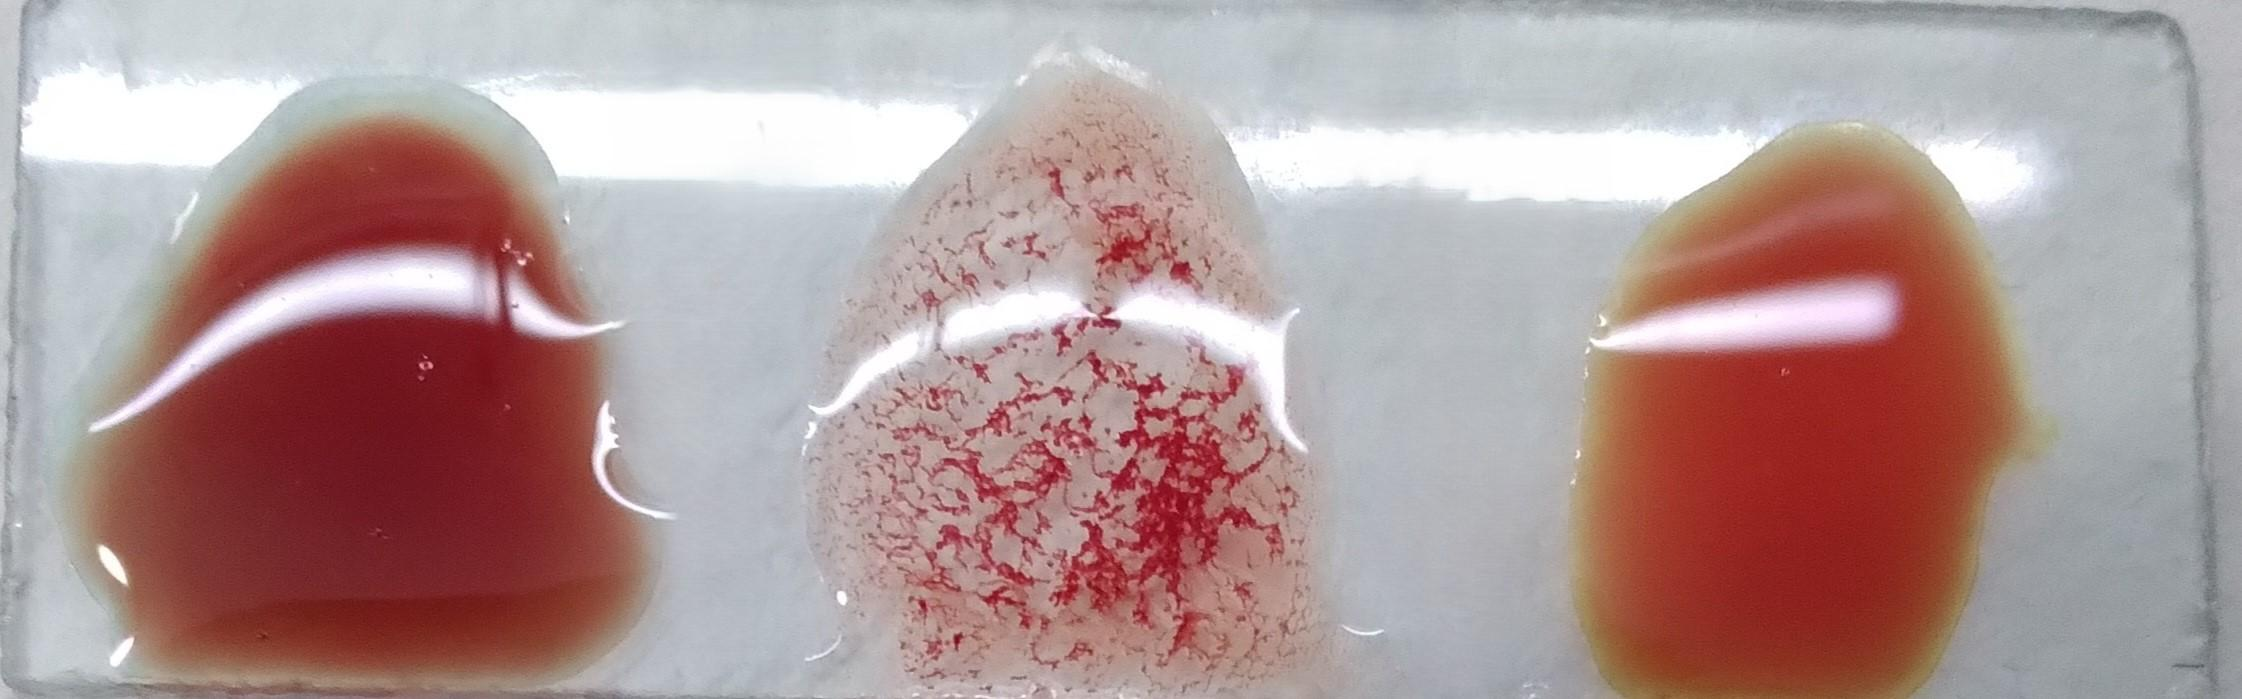D: (864, 39, 1325, 699)
